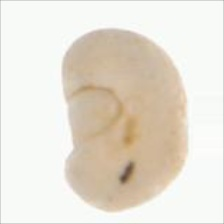L5: (66, 83, 131, 145), (174, 83, 192, 149)
L6: (57, 26, 192, 215)
